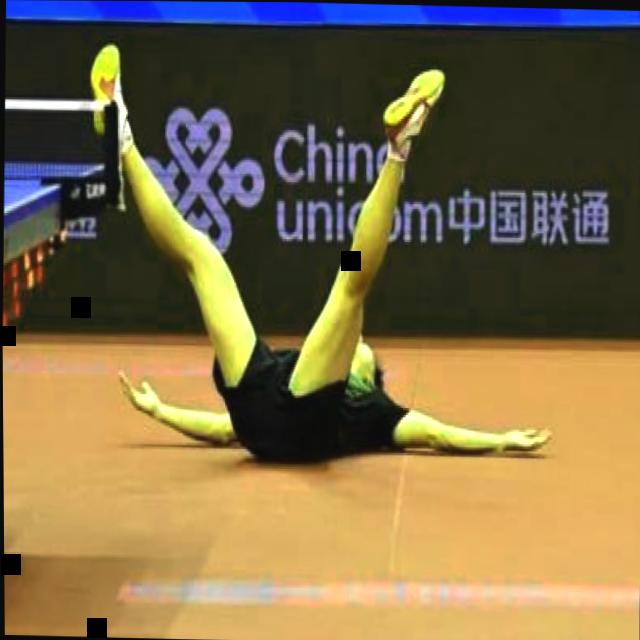Fall-Detected: (51, 41, 567, 463)
